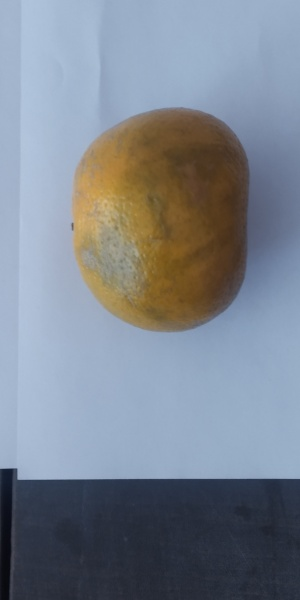BAD: (67, 103, 251, 333)
